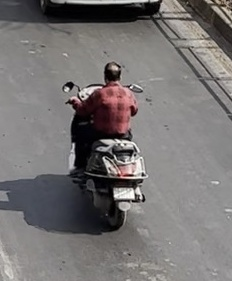BikeWithRider: (56, 57, 154, 233)
NoHelmet: (98, 58, 127, 86)
